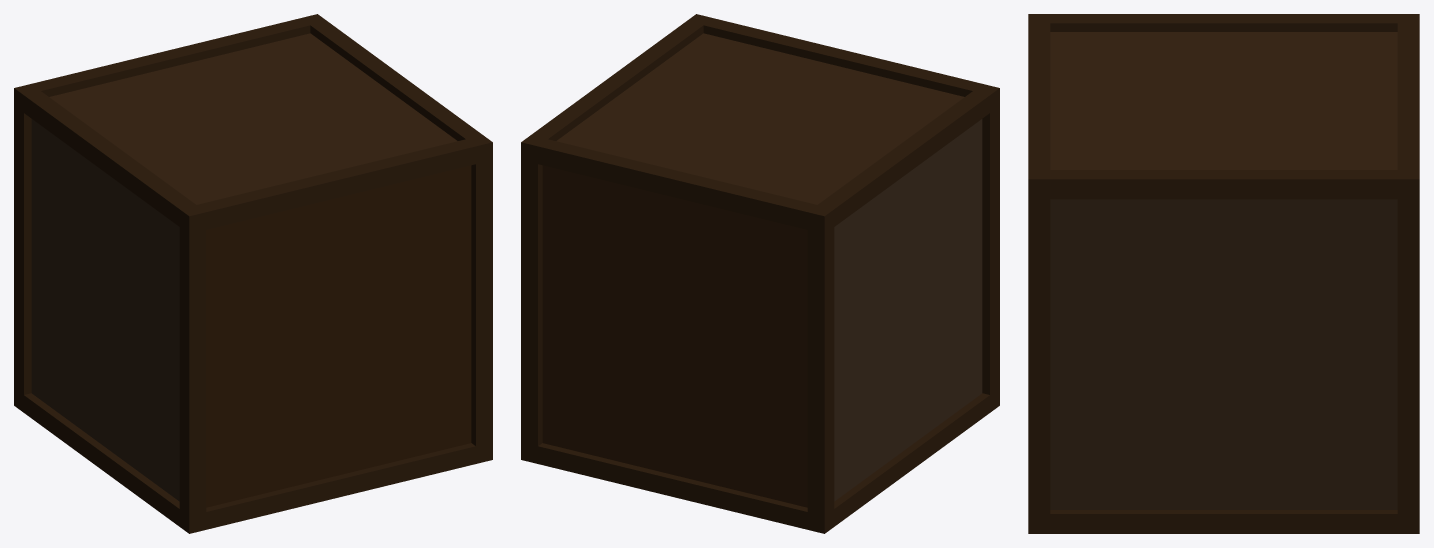
The picture shows the model from 3 angles, left to right: view 1: azimuth 30°, elevation 25°; view 2: azimuth 150°, elevation 25°; view 3: azimuth 270°, elevation 25°; orthographic projection. The views are drawn at different scales.
Visible parts, largest first — view 1: Box015; view 2: Box015; view 3: Box015.
Boxes of the visible parts, x1,y1,x2,y2 form: Box015: [14, 14, 492, 533]; Box015: [521, 14, 999, 533]; Box015: [1028, 14, 1419, 533].
Bounding box in the file's own units: 40 × 40 × 40.
